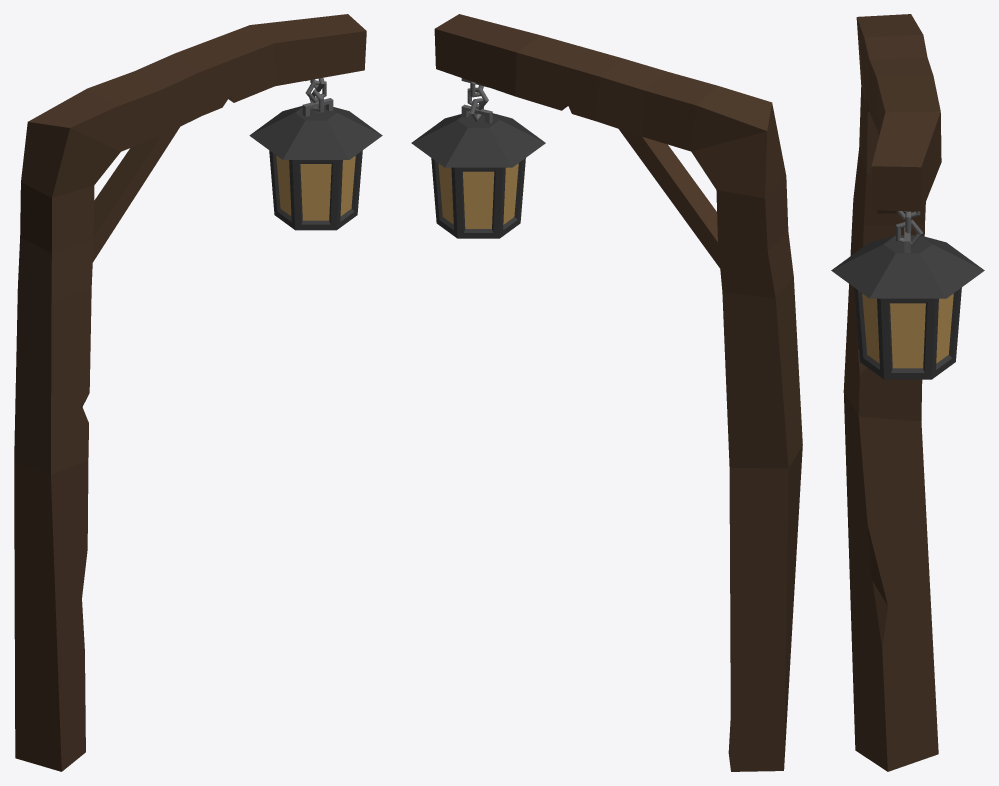
File: lighten.fbx
The picture shows the model from 3 angles, left to right: view 1: azimuth 30°, elevation 25°; view 2: azimuth 150°, elevation 25°; view 3: azimuth 270°, elevation 25°; orthographic projection. The views are drawn at different scales.
Visible parts, largest first — view 1: Cube.002, Circle; view 2: Cube.002, Circle; view 3: Cube.002, Circle.
Boxes of the visible parts, box(x1,y1,x2,y2) form: Cube.002: box(14, 14, 366, 771); Circle: box(249, 105, 382, 230); Cube.002: box(434, 14, 802, 771); Circle: box(411, 112, 545, 238); Cube.002: box(843, 14, 941, 771); Circle: box(831, 235, 984, 379).
Size of the model in its own units: 569 by 1020 by 186.
